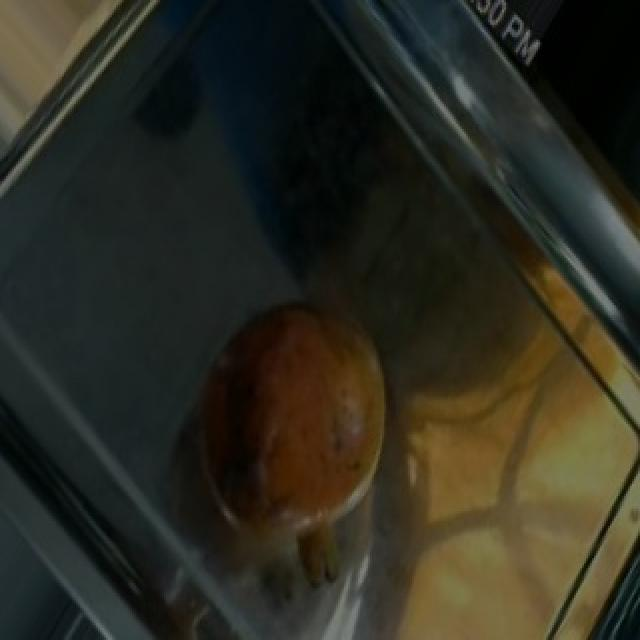fruit: (168, 276, 418, 554)
